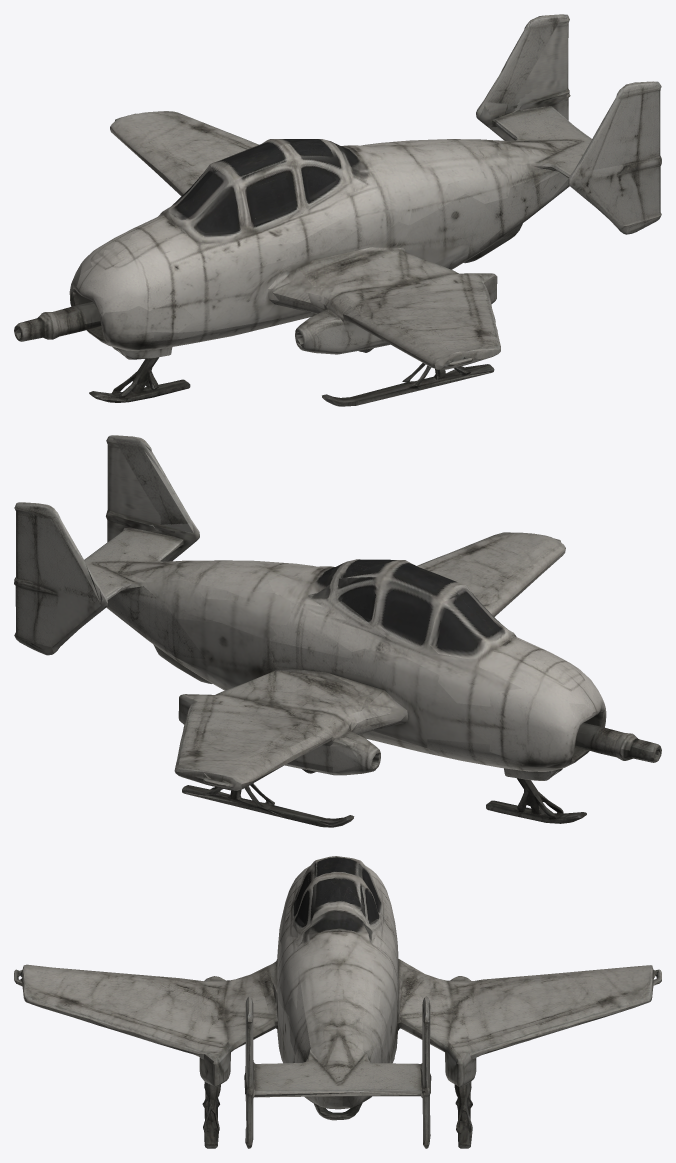
File: plane_hull.glb
3 renders of one model, top to bottom at view 1: azimuth 30°, elevation 25°; view 2: azimuth 150°, elevation 25°; view 3: azimuth 270°, elevation 25°, orthographic. The views are drawn at different scales.
Bounding box in the file's own units: 1.9 × 0.7305 × 1.85.
Materials: 1 (1 with a texture image).
